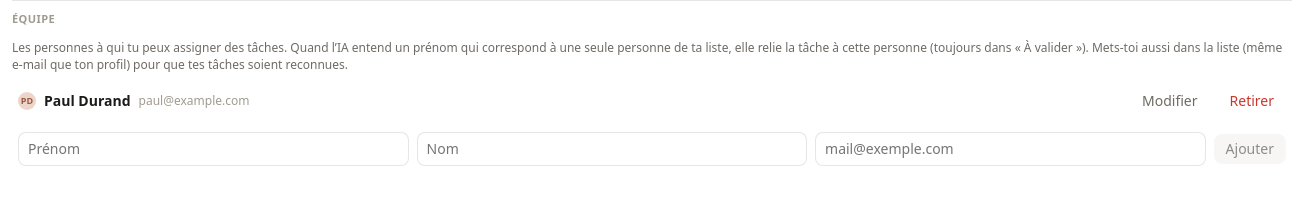
Test: Team settings › adds, edits and removes team members
Later steps or results of the test are not shown.
Expected: the text "Paul Durand" is shown, [44,91,130,111]
Type "Léa" into the field named "Nouveau prénom".
click(213, 149); type("Léa")  # box [18,132,408,166]
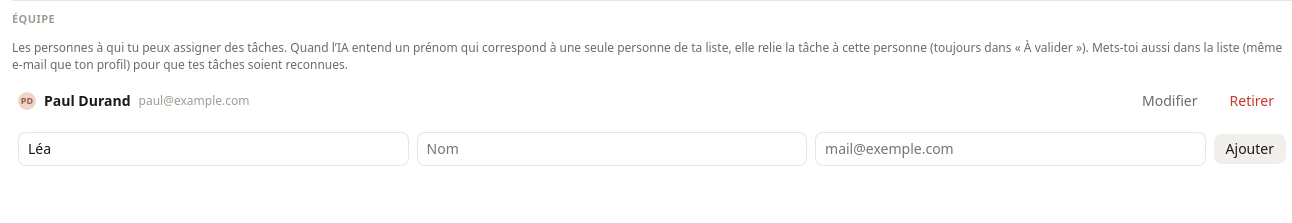
Type "lea@example.com" into the field named "Nouvel e-mail".
click(1010, 149); type("lea@example.com")  # box [815,132,1206,166]
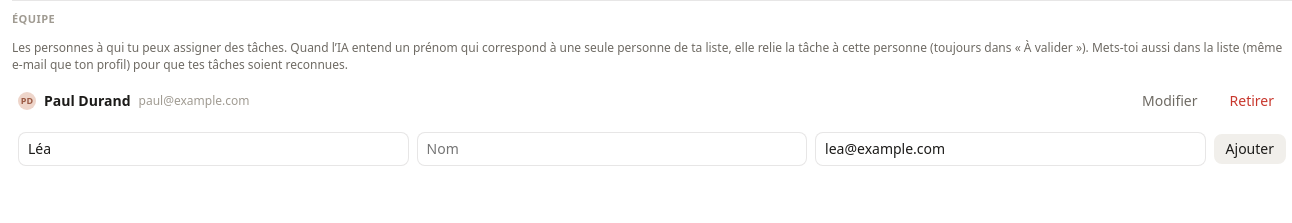
Click the button "Ajouter".
click(1250, 149)  # box [1214,134,1286,164]
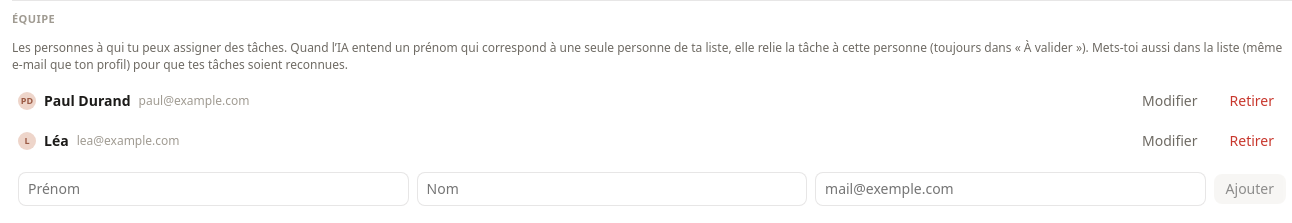
Now the text "lea@example.com" is shown, box [77,132,180,149]
